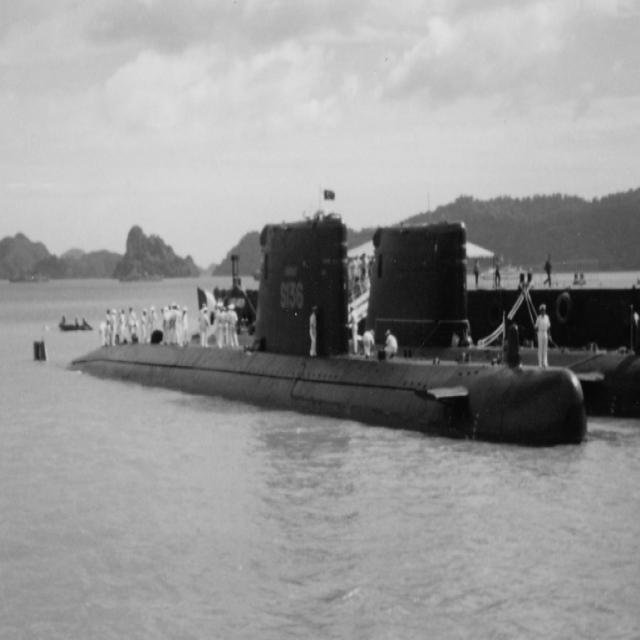submarine: (15, 213, 589, 444), (342, 209, 640, 418)
